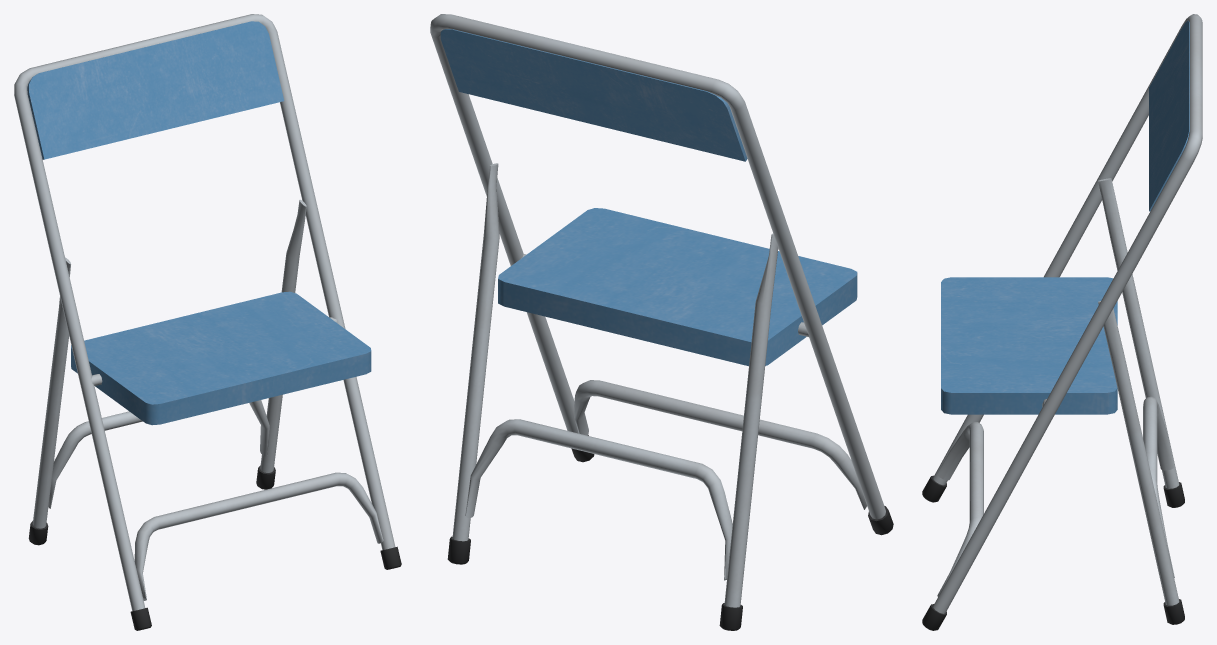
Rendered from ChairFolding.fbx.
The picture shows the model from 3 angles, left to right: view 1: azimuth 30°, elevation 25°; view 2: azimuth 150°, elevation 25°; view 3: azimuth 270°, elevation 25°; orthographic projection. The views are drawn at different scales.
Visible parts, largest first — view 1: ChairFolding; view 2: ChairFolding; view 3: ChairFolding.
Boxes of the visible parts, x1=… form: ChairFolding: x1=14, y1=14, x2=401, y2=630; ChairFolding: x1=430, y1=14, x2=893, y2=630; ChairFolding: x1=922, y1=14, x2=1202, y2=630.
Size of the model in its own units: 0.5306 by 0.8928 by 0.4614.
